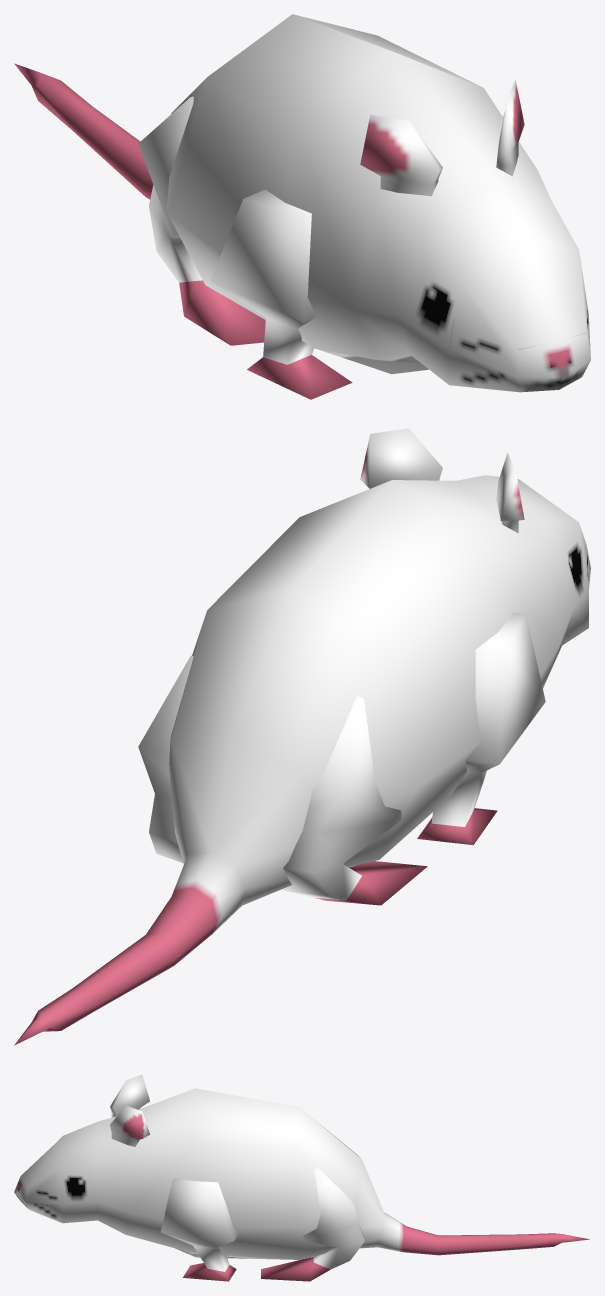
File: rat.obj
The picture shows the model from 3 angles, top to bottom: view 1: azimuth 30°, elevation 25°; view 2: azimuth 150°, elevation 25°; view 3: azimuth 270°, elevation 25°; orthographic projection. The views are drawn at different scales.
Visible parts, largest first — view 1: Cube_Cube.001; view 2: Cube_Cube.001; view 3: Cube_Cube.001.
Part boxes in pixels (left/top/right/bottom): Cube_Cube.001: left=14, top=14, right=590, bottom=399; Cube_Cube.001: left=14, top=428, right=590, bottom=1045; Cube_Cube.001: left=14, top=1074, right=589, bottom=1281.
Bounding box in the file's own units: 1.33 × 1.44 × 4.37.
